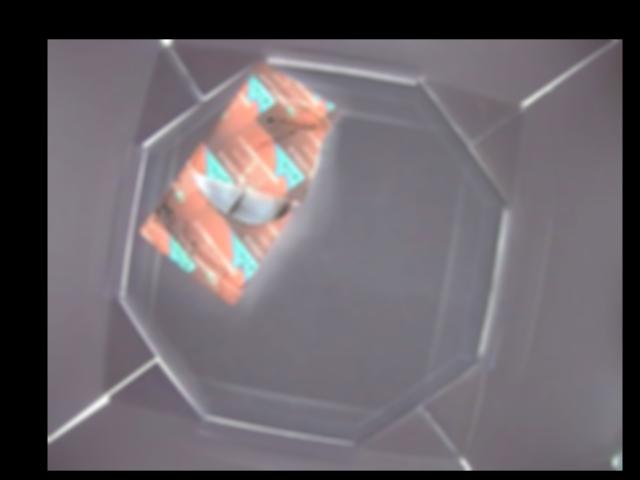Medicine: (138, 66, 335, 308)
